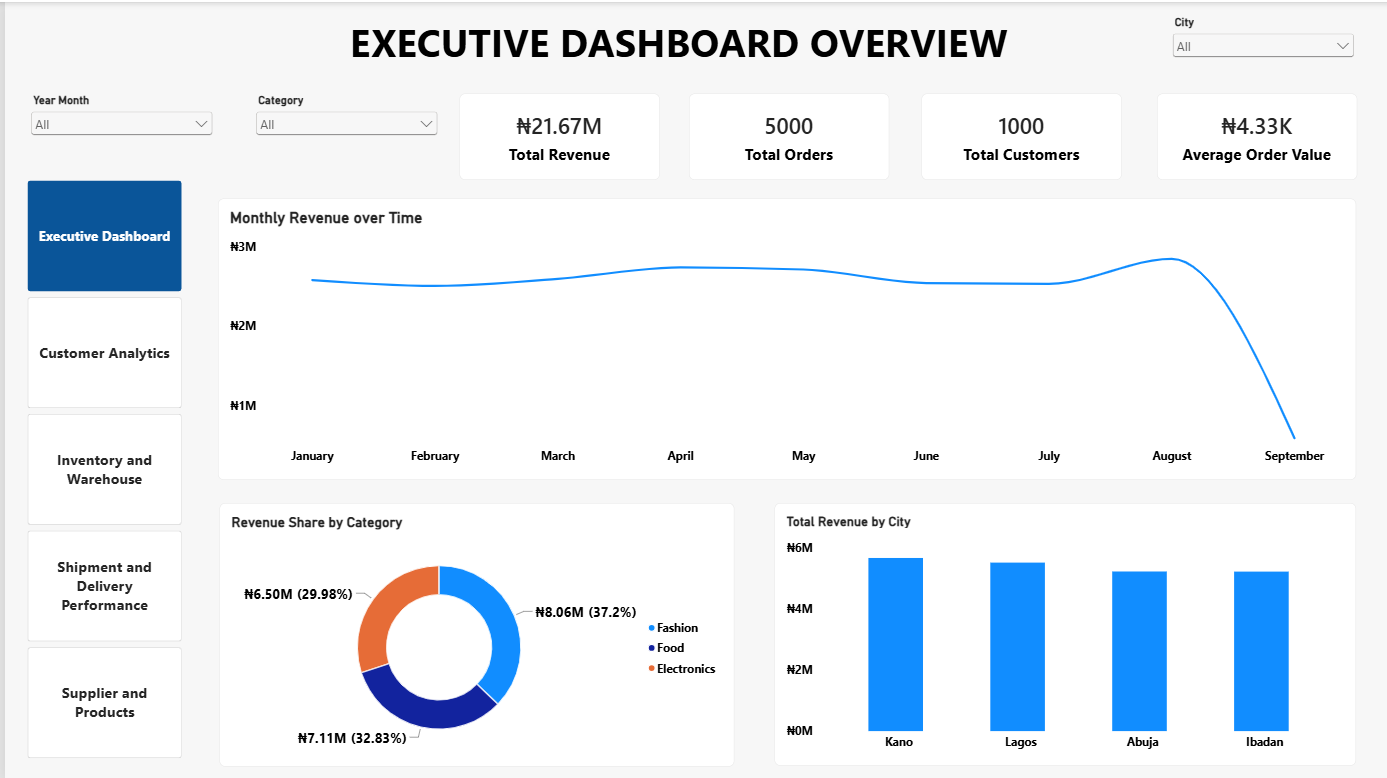

The dashboard page shown, as its layout file describes it:
{"tool":"powerbi","page":{"name":"Executive Dashboard","canvas":[1920,1080],"ordinal":0},"visuals":[{"type":"card","fields":{"Values":["_Measure.Total Revenue"]},"box":[631.1,127.2,277.9,120.1],"z":0},{"type":"card","fields":{"Values":["_Measure.Total Orders"]},"box":[948.9,127.2,277.9,120.1],"z":1000},{"type":"card","fields":{"Values":["_Measure.Total Customers"]},"box":[1271.5,127.2,277.9,120.1],"z":2000},{"type":"card","fields":{"Values":["_Measure.Average Order Value"]},"box":[1598.8,127.2,277.9,120.1],"z":3000},{"type":"lineChart","title":"Monthly Revenue over Time","fields":{"Category":["Fact_Orders.Month"],"Y":["_Measure.Total Revenue"]},"box":[296.7,273.1,1580,390.9],"z":4000},{"type":"clusteredColumnChart","fields":{"Category":["Dim_Customers.City"],"Y":["_Measure.Total Revenue"]},"box":[1069,694.6,807.7,365],"z":5000},{"type":"donutChart","title":" Revenue Share by Category","fields":{"Category":["Dim_Products.Category"],"Y":["_Measure.Total Revenue"]},"box":[297.6,694.5,714.3,365.7],"z":6000},{"type":"textbox","box":[292,18.8,1288,80.1],"z":7000},{"type":"pageNavigator","box":[30.6,247.2,214.3,805.3],"z":8000},{"type":"slicer","fields":{"Values":["Dim_Customers.City"]},"box":[1615.3,18.8,261.4,80.1],"z":9000},{"type":"slicer","fields":{"Values":["Dim_Products.Category"]},"box":[343.8,127.2,261.4,96.5],"z":10000},{"type":"slicer","fields":{"Values":["Fact_Orders.Year Month"]},"box":[30.6,127.2,261.4,96.5],"z":11000}]}

Visuals, with their boxes in screenshot pixels (x1, y1, x2, y2), scaled from the page's 1920x1080 canvas onto the 1387x778 screenshot:
card - _Measure.Total Revenue: l=456, t=92, r=657, b=178
card - _Measure.Total Orders: l=685, t=92, r=886, b=178
card - _Measure.Total Customers: l=919, t=92, r=1119, b=178
card - _Measure.Average Order Value: l=1155, t=92, r=1356, b=178
"Monthly Revenue over Time" lineChart: l=214, t=197, r=1356, b=478
clusteredColumnChart - Dim_Customers.City x _Measure.Total Revenue: l=772, t=500, r=1356, b=763
" Revenue Share by Category" donutChart: l=215, t=500, r=731, b=764
textbox: l=211, t=14, r=1141, b=71
pageNavigator: l=22, t=178, r=177, b=758
slicer - Dim_Customers.City: l=1167, t=14, r=1356, b=71
slicer - Dim_Products.Category: l=248, t=92, r=437, b=161
slicer - Fact_Orders.Year Month: l=22, t=92, r=211, b=161
